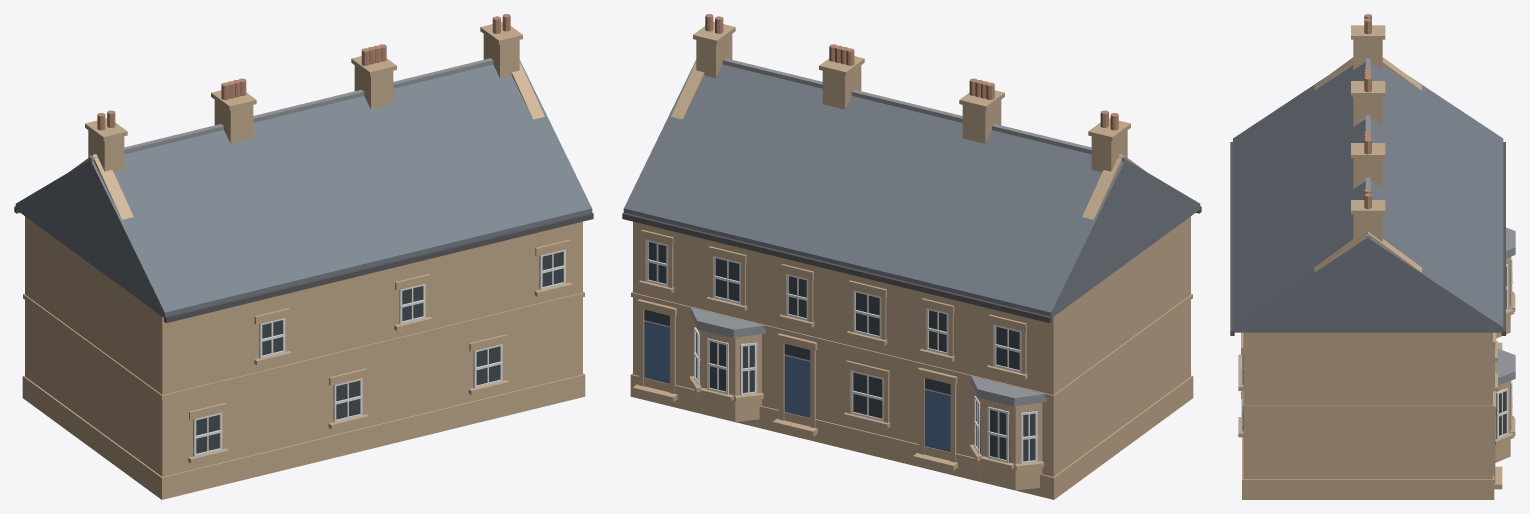
The model's file is terrace.glb.
3 renders of one model, left to right at view 1: azimuth 30°, elevation 25°; view 2: azimuth 150°, elevation 25°; view 3: azimuth 270°, elevation 25°, orthographic. The views are drawn at different scales.
Visible parts, largest first — view 1: terrace; view 2: terrace; view 3: terrace.
Boxes of the visible parts, x1,y1,x2,y2 form: terrace: (14, 14, 593, 499); terrace: (622, 14, 1201, 499); terrace: (1230, 14, 1515, 499).
Bounding box in the file's own units: 15.24 × 11.32 × 9.73.
